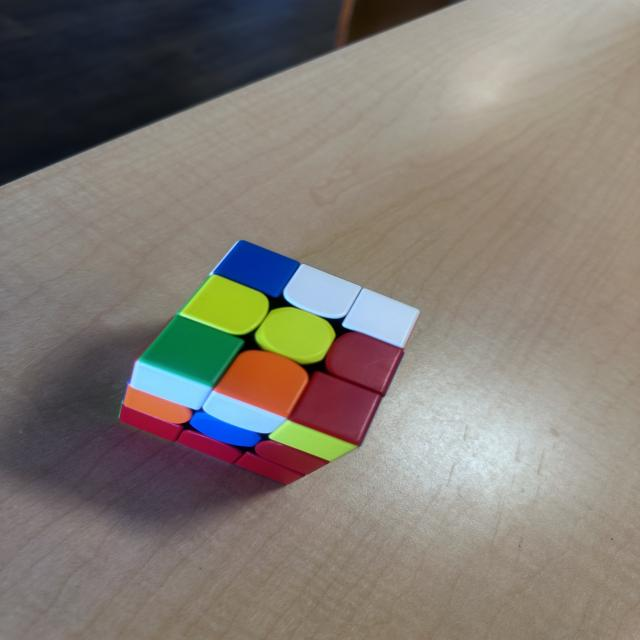sticker: (136, 316, 232, 380), (180, 274, 270, 334), (211, 240, 301, 300), (324, 331, 406, 396), (340, 286, 423, 348), (254, 306, 336, 365), (282, 264, 362, 320), (302, 372, 382, 428), (224, 353, 306, 403)
